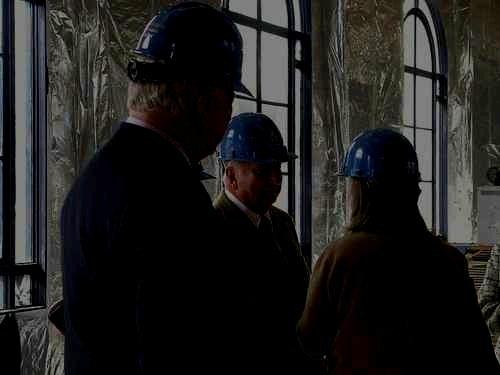helmet: (126, 2, 255, 158), (333, 127, 422, 229), (216, 112, 299, 207)
